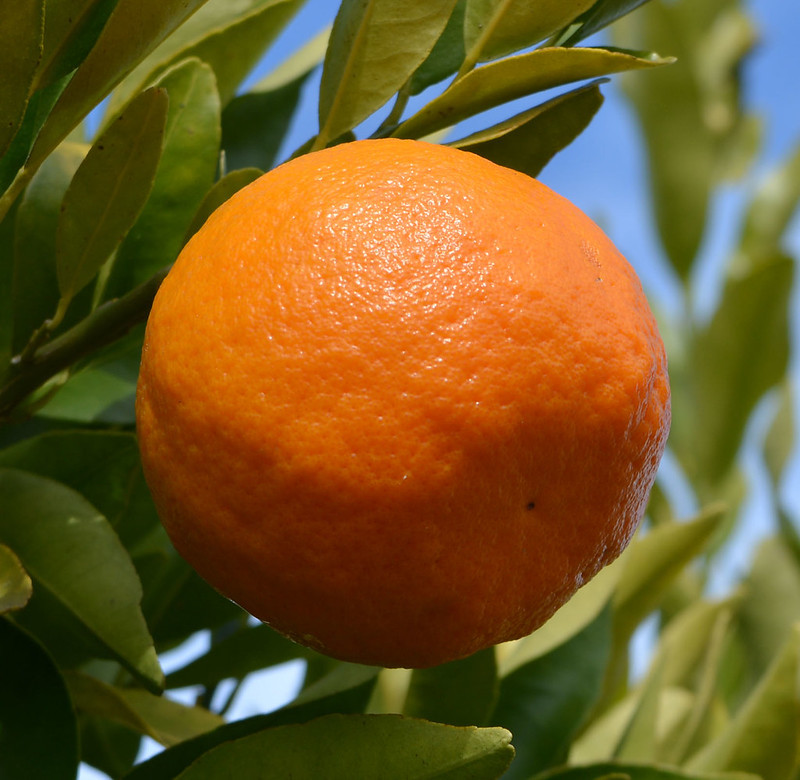orange: (141, 132, 663, 677)
